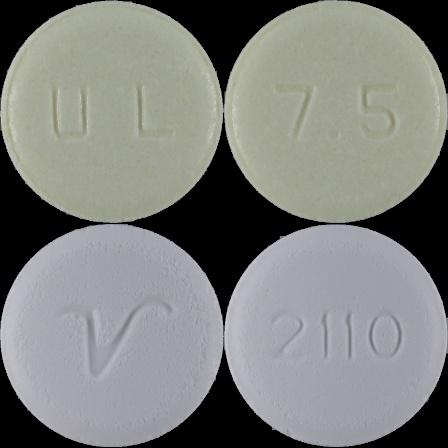68788-1701: (0, 0, 224, 224)
